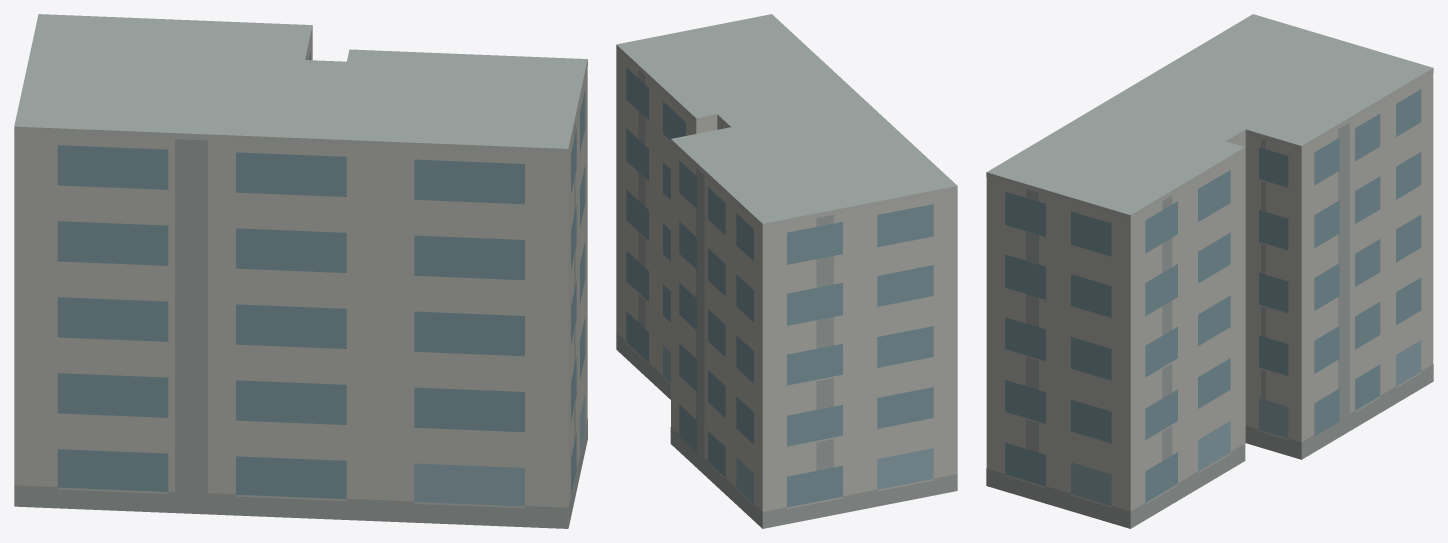
Rendered from survey-upis-33033724.glb.
3 views of the same model, side by side, from view 1: azimuth 30°, elevation 25°; view 2: azimuth 150°, elevation 25°; view 3: azimuth 270°, elevation 25° (orthographic). The views are drawn at different scales.
Parts seen in each view (by area): view 1: survey-upis-33033724.tmp; view 2: survey-upis-33033724.tmp; view 3: survey-upis-33033724.tmp.
Part boxes in pixels (x1,y1,x2,y2): survey-upis-33033724.tmp: (14, 14, 587, 528); survey-upis-33033724.tmp: (616, 14, 957, 528); survey-upis-33033724.tmp: (986, 14, 1433, 528).
Size of the model in its own units: 20.92 by 15.2 by 19.64.
